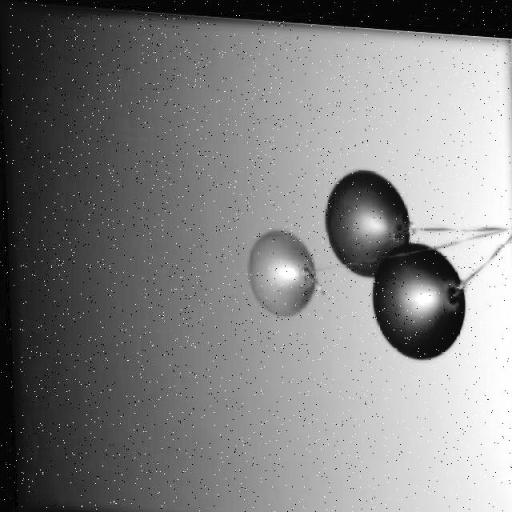balloon: (360, 224, 467, 360), (319, 156, 421, 280), (236, 216, 320, 320)
